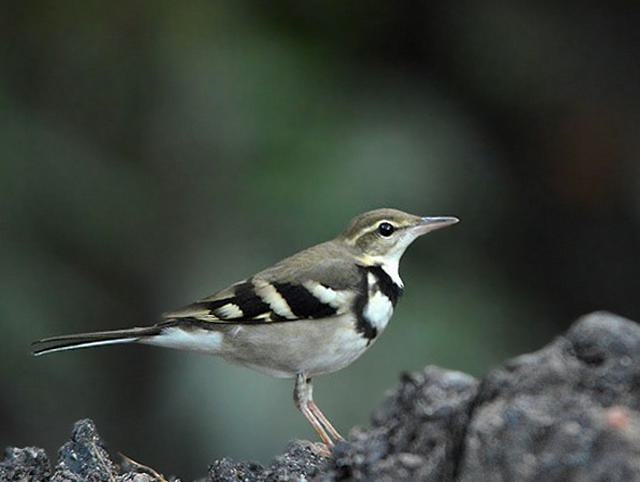wagtail: (83, 188, 452, 410)
